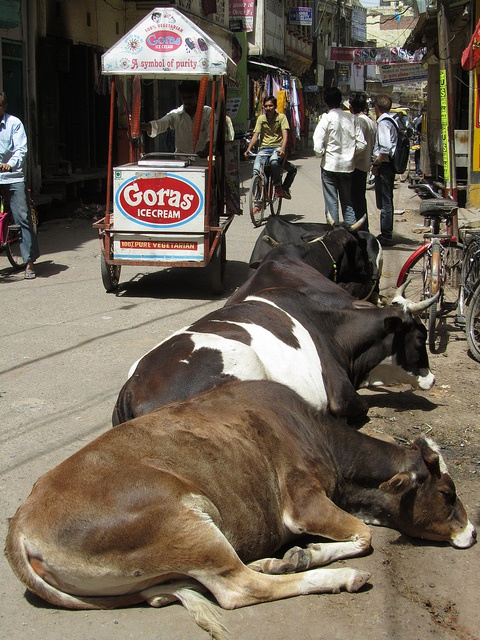non-vehicle: (394, 183, 466, 353), (0, 186, 39, 272), (247, 150, 283, 226), (465, 283, 479, 361)
